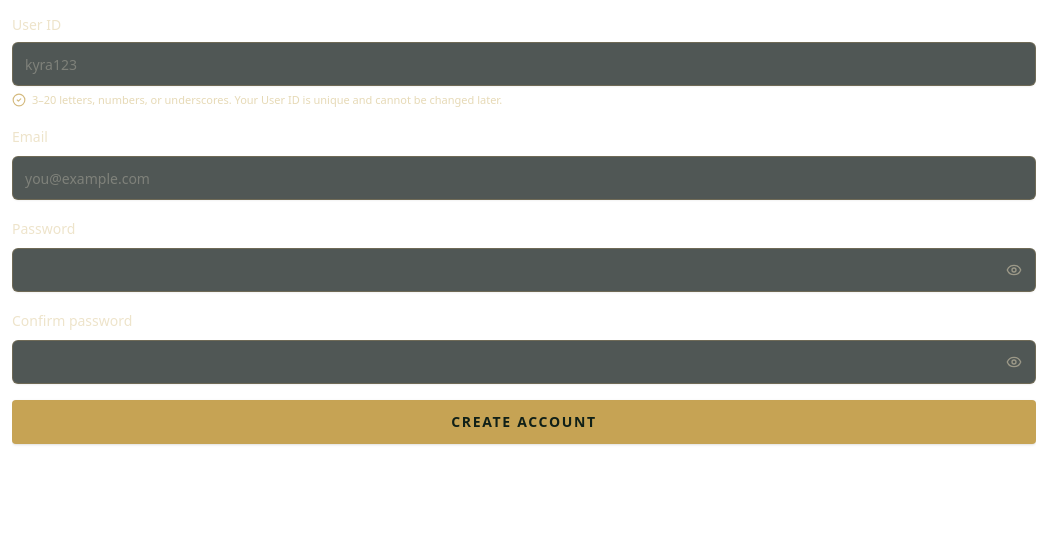
SignUpForm › preserves every form value after a network failure
The width and height of the screenshot is (1048, 542).
Type "Admin_User" into the field labelled "User ID".
click(524, 64); type("Admin_User")  # box [12,42,1036,86]
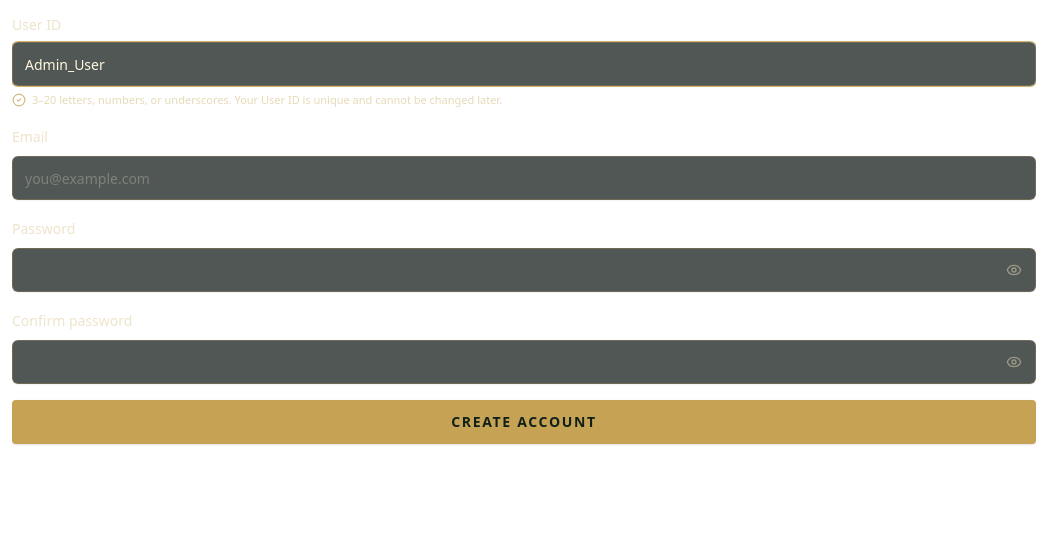
Type "Player@Example.com" into the field labelled "Email".
click(524, 178); type("Player@Example.com")  # box [12,156,1036,200]
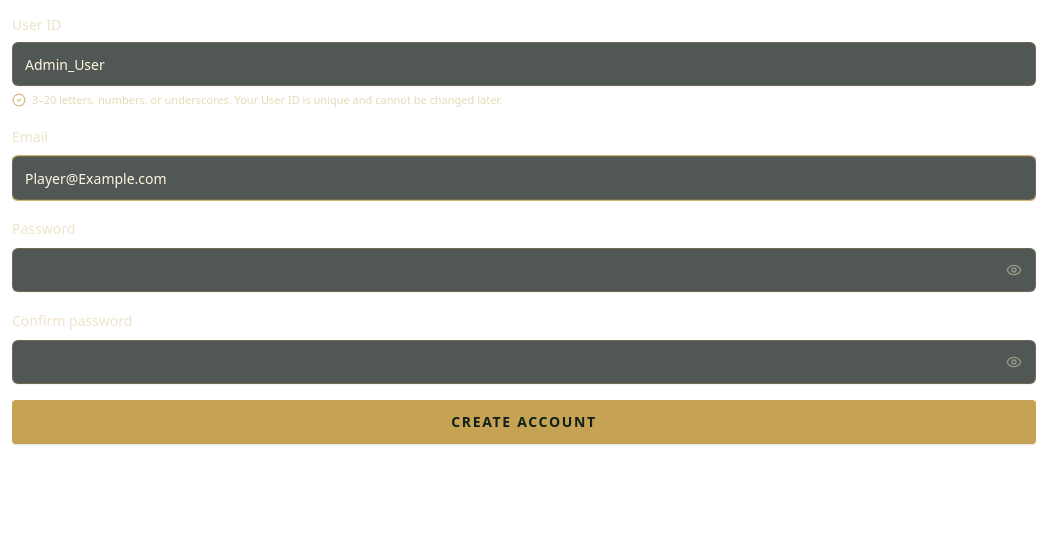
Type "password-123" into the password field labelled "Password".
click(524, 270); type("password-123")  # box [12,248,1036,292]
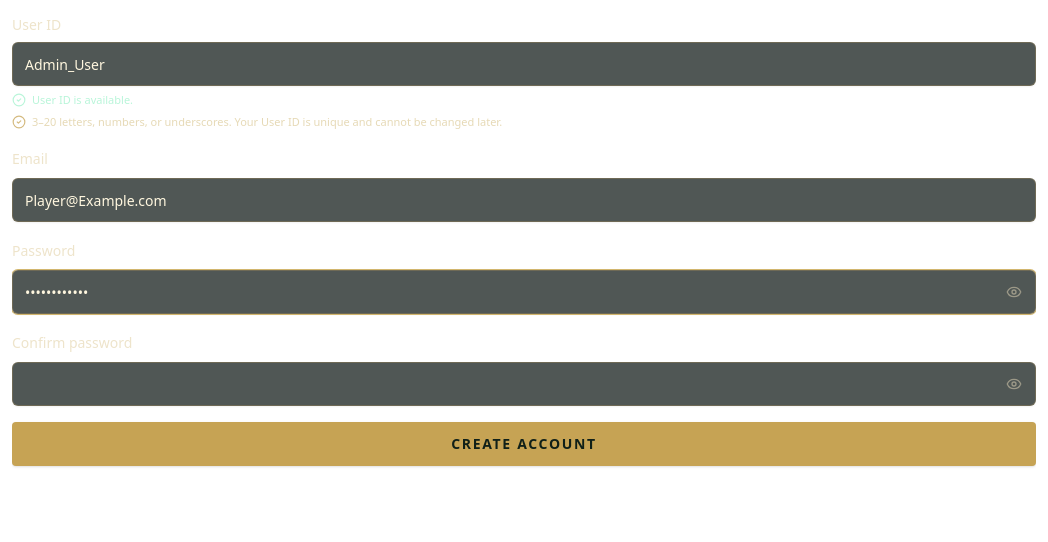
Type "password-123" into the password field labelled "Confirm password".
click(524, 384); type("password-123")  # box [12,362,1036,406]
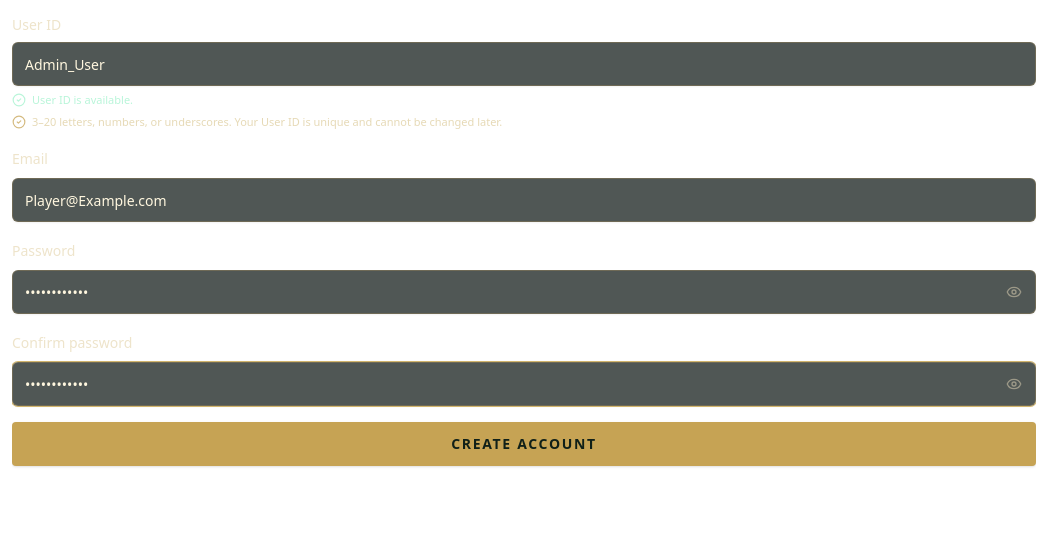
Click the button "CREATE ACCOUNT".
click(524, 444)  # box [12,422,1036,466]
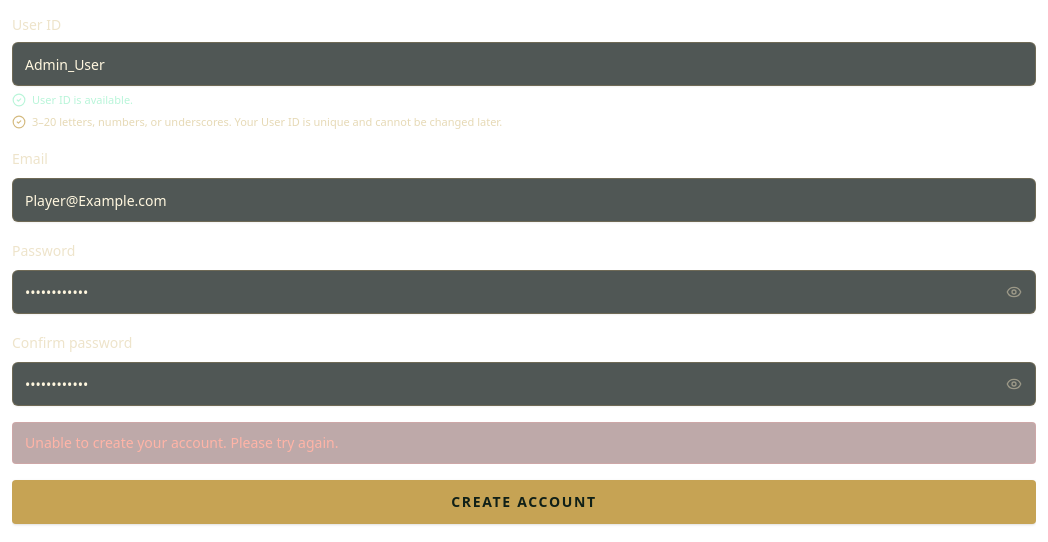
Expected: the text "Unable to create your account. Please try again." is shown, [12,422,1036,464]
